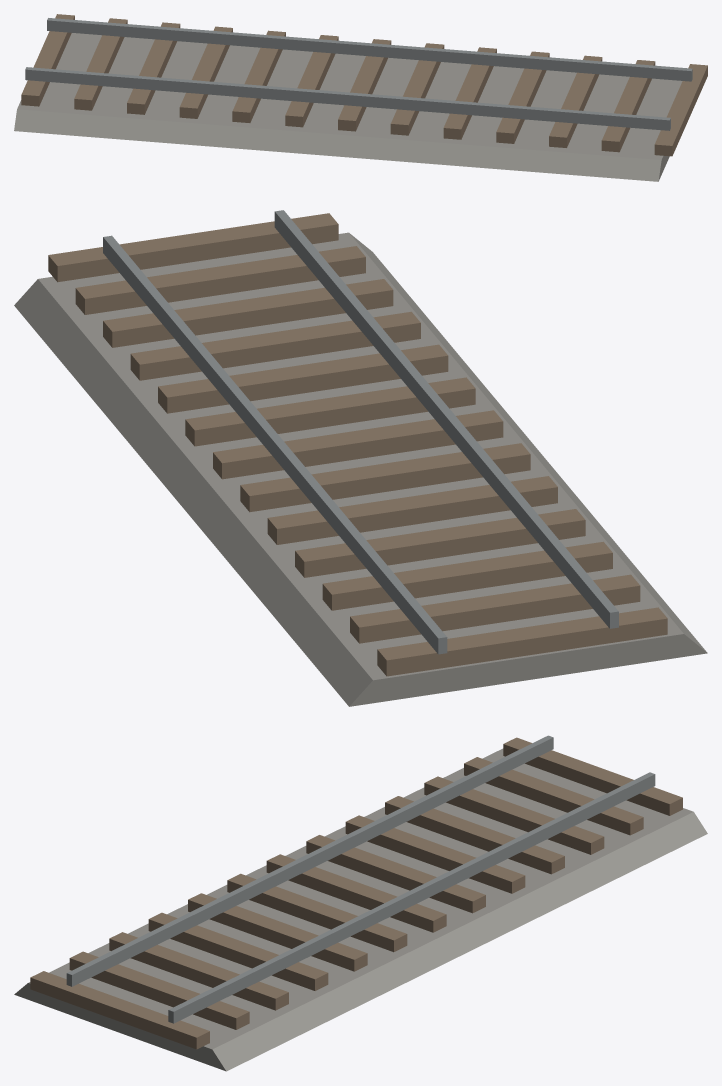
Rendered from rail_01217.glb.
The picture shows the model from 3 angles, top to bottom: view 1: azimuth 30°, elevation 25°; view 2: azimuth 150°, elevation 25°; view 3: azimuth 270°, elevation 25°; orthographic projection. The views are drawn at different scales.
Parts seen in each view (by area): view 1: Ballast, Sleepers, Rails; view 2: Sleepers, Ballast, Rails; view 3: Sleepers, Ballast, Rails.
Part boxes in pixels (left/top/right/bottom): Ballast: left=14, top=33, right=682, bottom=181; Sleepers: left=21, top=14, right=707, bottom=156; Rails: left=25, top=18, right=692, bottom=130; Sleepers: left=48, top=213, right=667, bottom=676; Ballast: left=14, top=232, right=707, bottom=706; Rails: left=103, top=210, right=618, bottom=654; Sleepers: left=30, top=737, right=682, bottom=1049; Ballast: left=14, top=748, right=707, bottom=1071; Rails: left=66, top=735, right=655, bottom=1023.
Size of the model in its own units: 7.98 by 0.48 by 7.44.
